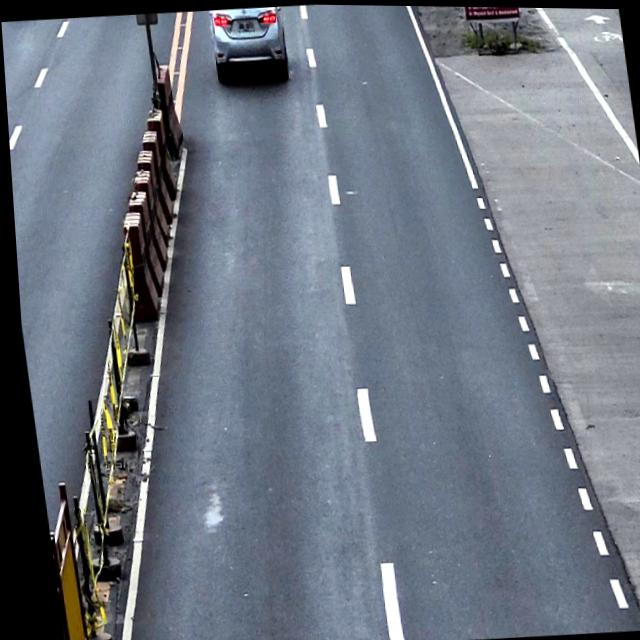Car: (206, 4, 291, 88)
License-Plate: (235, 19, 255, 34)
